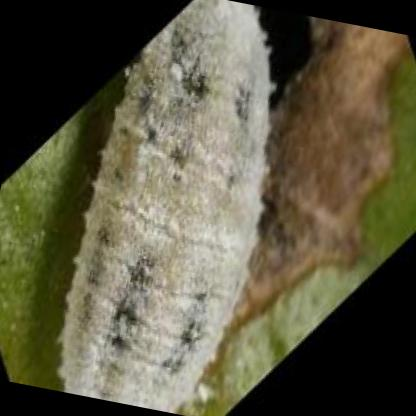mealy bug: (64, 0, 267, 411)
